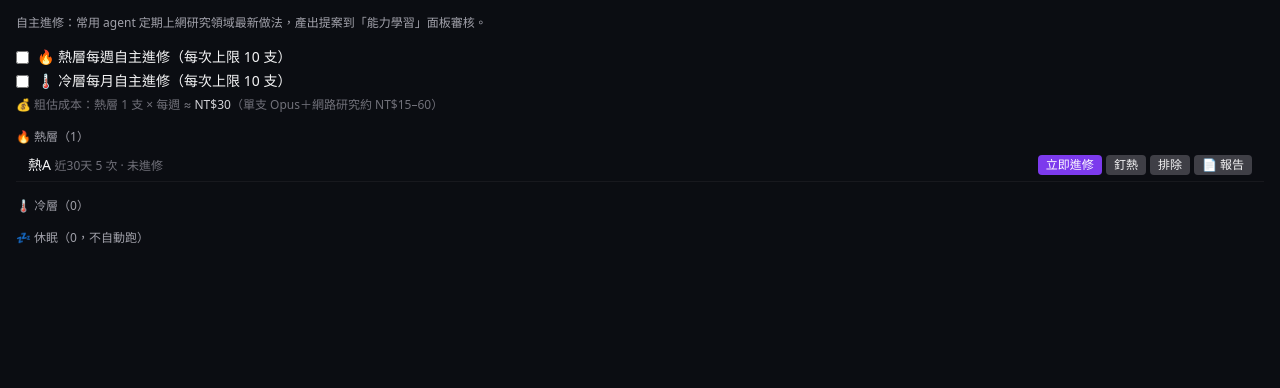
Scenario: AutonomousStudyPanel › 點📄報告鈕呼叫 studyReport 並顯示報告內容
Check: the text "熱A" is shown, box x1=28 y1=155 x2=51 y2=174
What coordinates should you click on to do the following:
click the button "📄 報告"
I would click on:
 (1223, 165)
Its box is x1=1194 y1=155 x2=1252 y2=175.
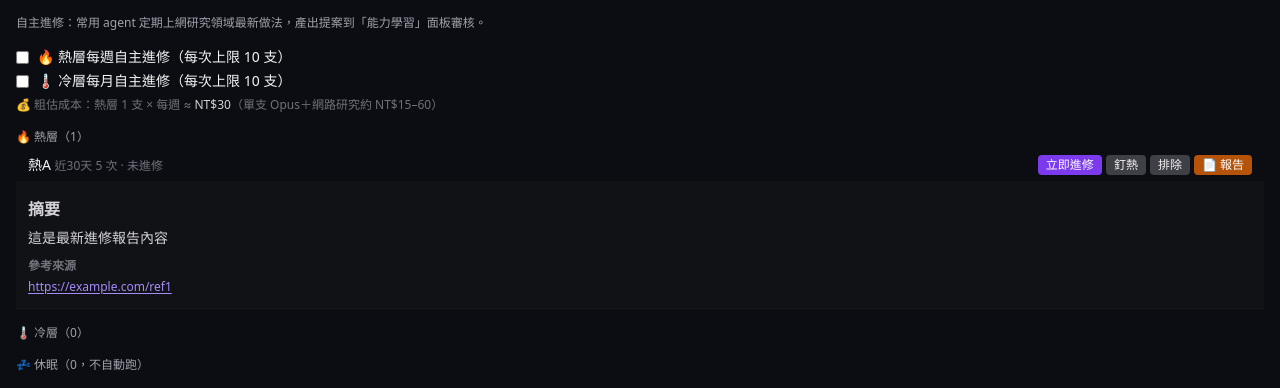
Check: the text "這是最新進修報告內容" is shown, box x1=28 y1=228 x2=168 y2=247
Check: the link "https://example.com/ref1" is shown, box x1=28 y1=278 x2=172 y2=295
